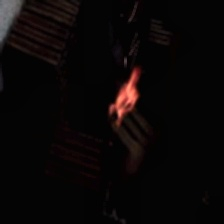fire: (102, 35, 151, 131)
